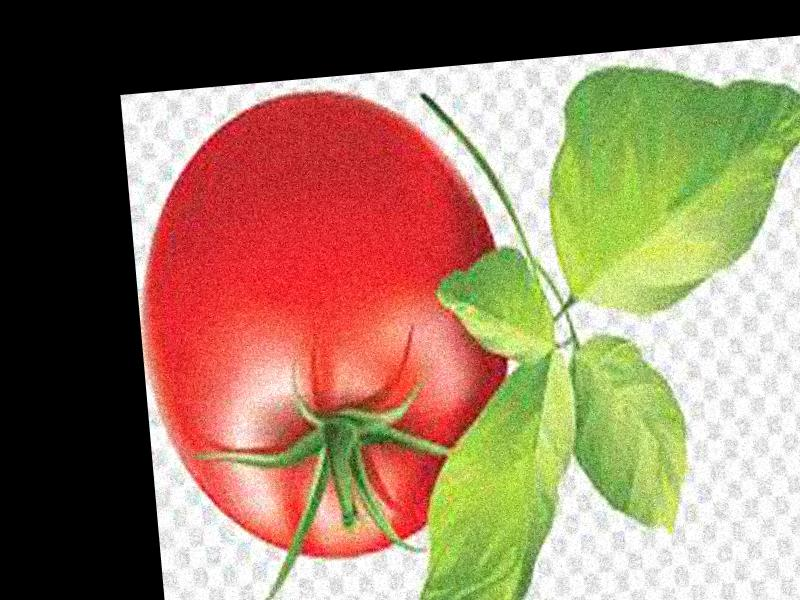Tomato: (124, 77, 523, 573)
